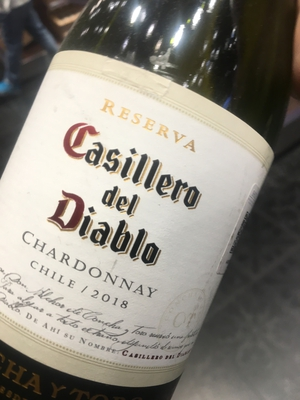casillero del diablo chardonnay: (3, 28, 267, 393)
